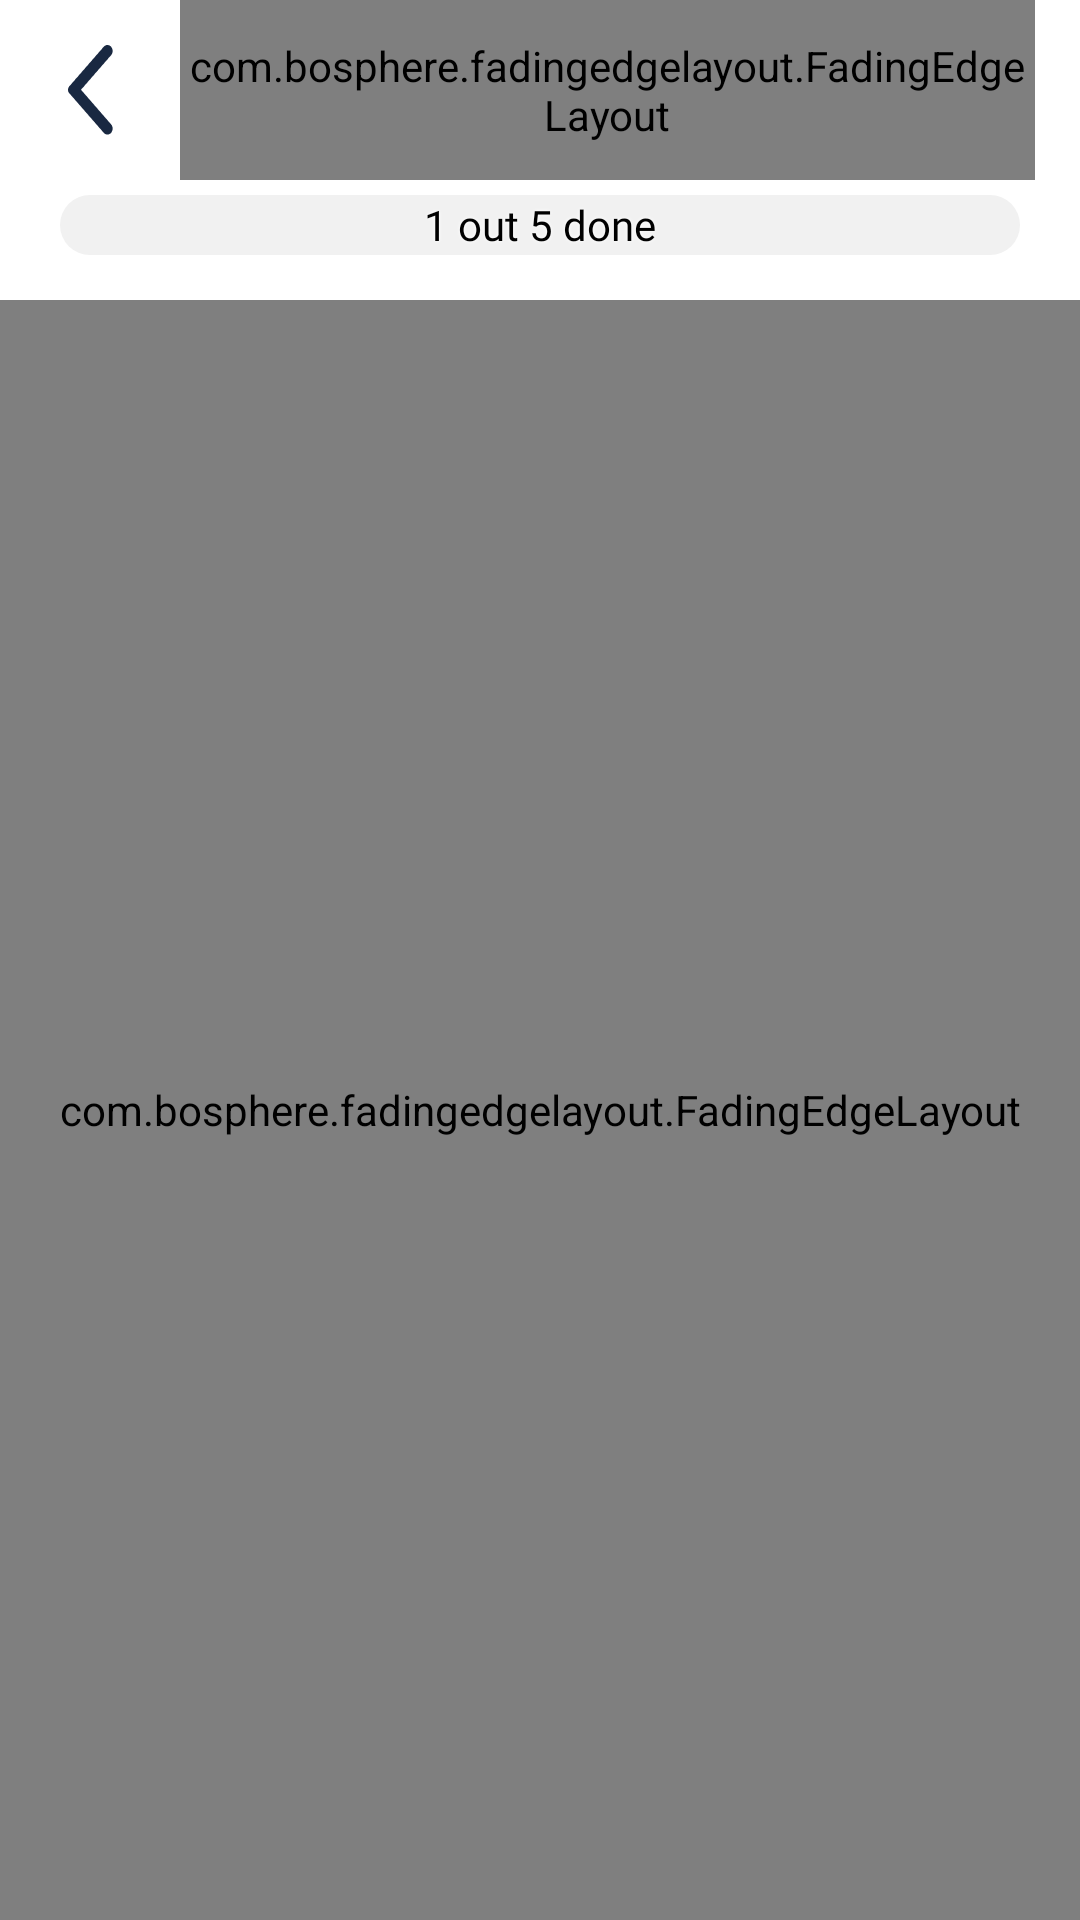

Locate icon controls on the screen. Image size 1080 x 1920, boxes as (x1, y1, x2, y2).
backicon: (68, 45, 113, 135)
